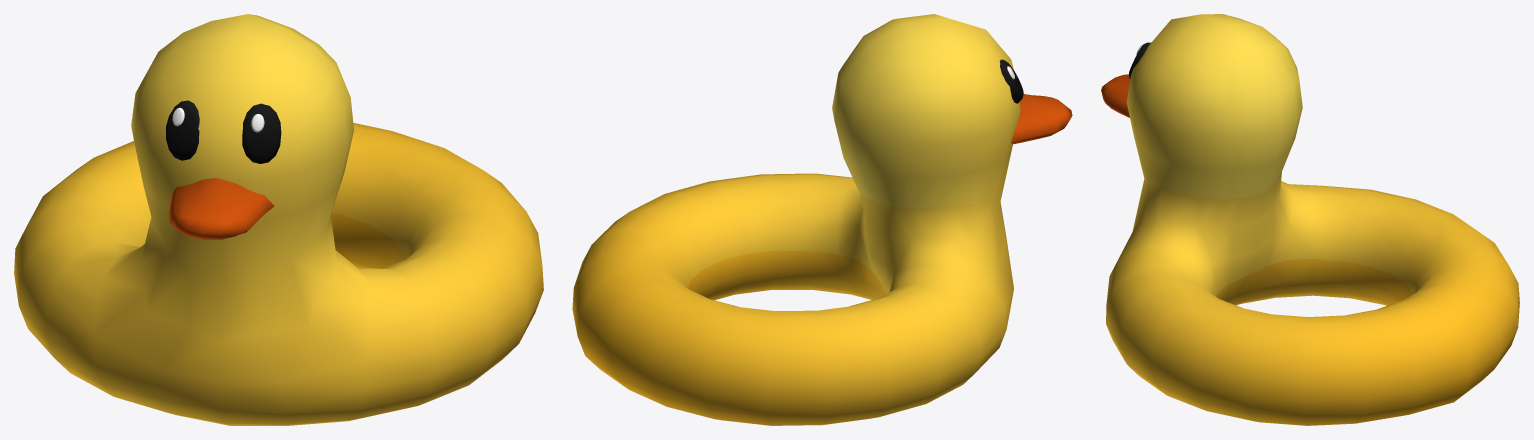
The model's file is duck.fbx.
3 views of the same model, side by side, from view 1: azimuth 30°, elevation 25°; view 2: azimuth 150°, elevation 25°; view 3: azimuth 270°, elevation 25° (orthographic). The views are drawn at different scales.
Visible parts, largest first — view 1: duck; view 2: duck; view 3: duck.
Part boxes in pixels (x1,y1,x2,y2): duck: [14, 14, 543, 425]; duck: [572, 14, 1072, 425]; duck: [1101, 14, 1519, 425].
Bounding box in the file's own units: 220 × 175 × 221.
